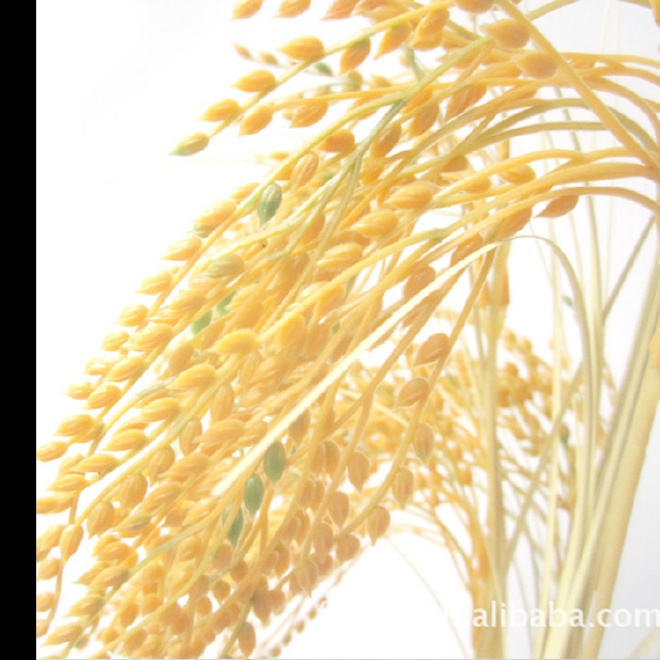rice: (52, 12, 581, 631)
